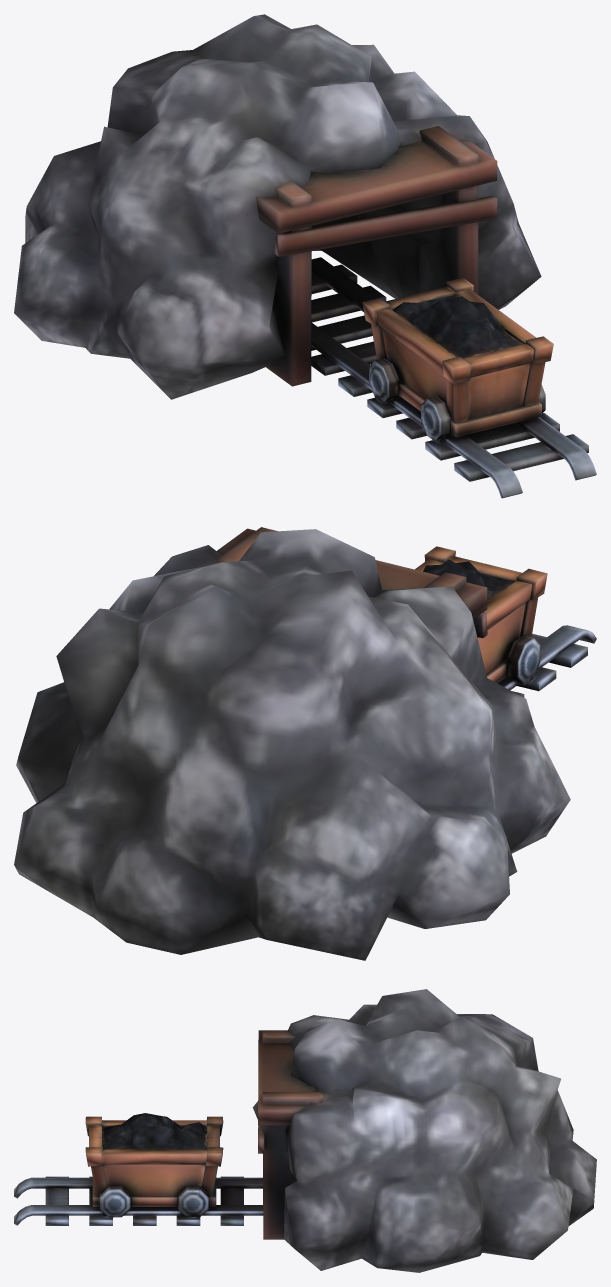
Rendered from MineCoal.glb.
3 views of the same model, one above another, from view 1: azimuth 30°, elevation 25°; view 2: azimuth 150°, elevation 25°; view 3: azimuth 270°, elevation 25° (orthographic). The views are drawn at different scales.
Visible parts, largest first — view 1: low; view 2: low; view 3: low.
Part boxes in pixels (x1,y1,x2,y2): low: (14,14,596,498); low: (14,527,596,960); low: (14,989,596,1272).
Size of the model in its own units: 0.8944 by 0.5098 by 1.31.
1 material, 1 textured.
